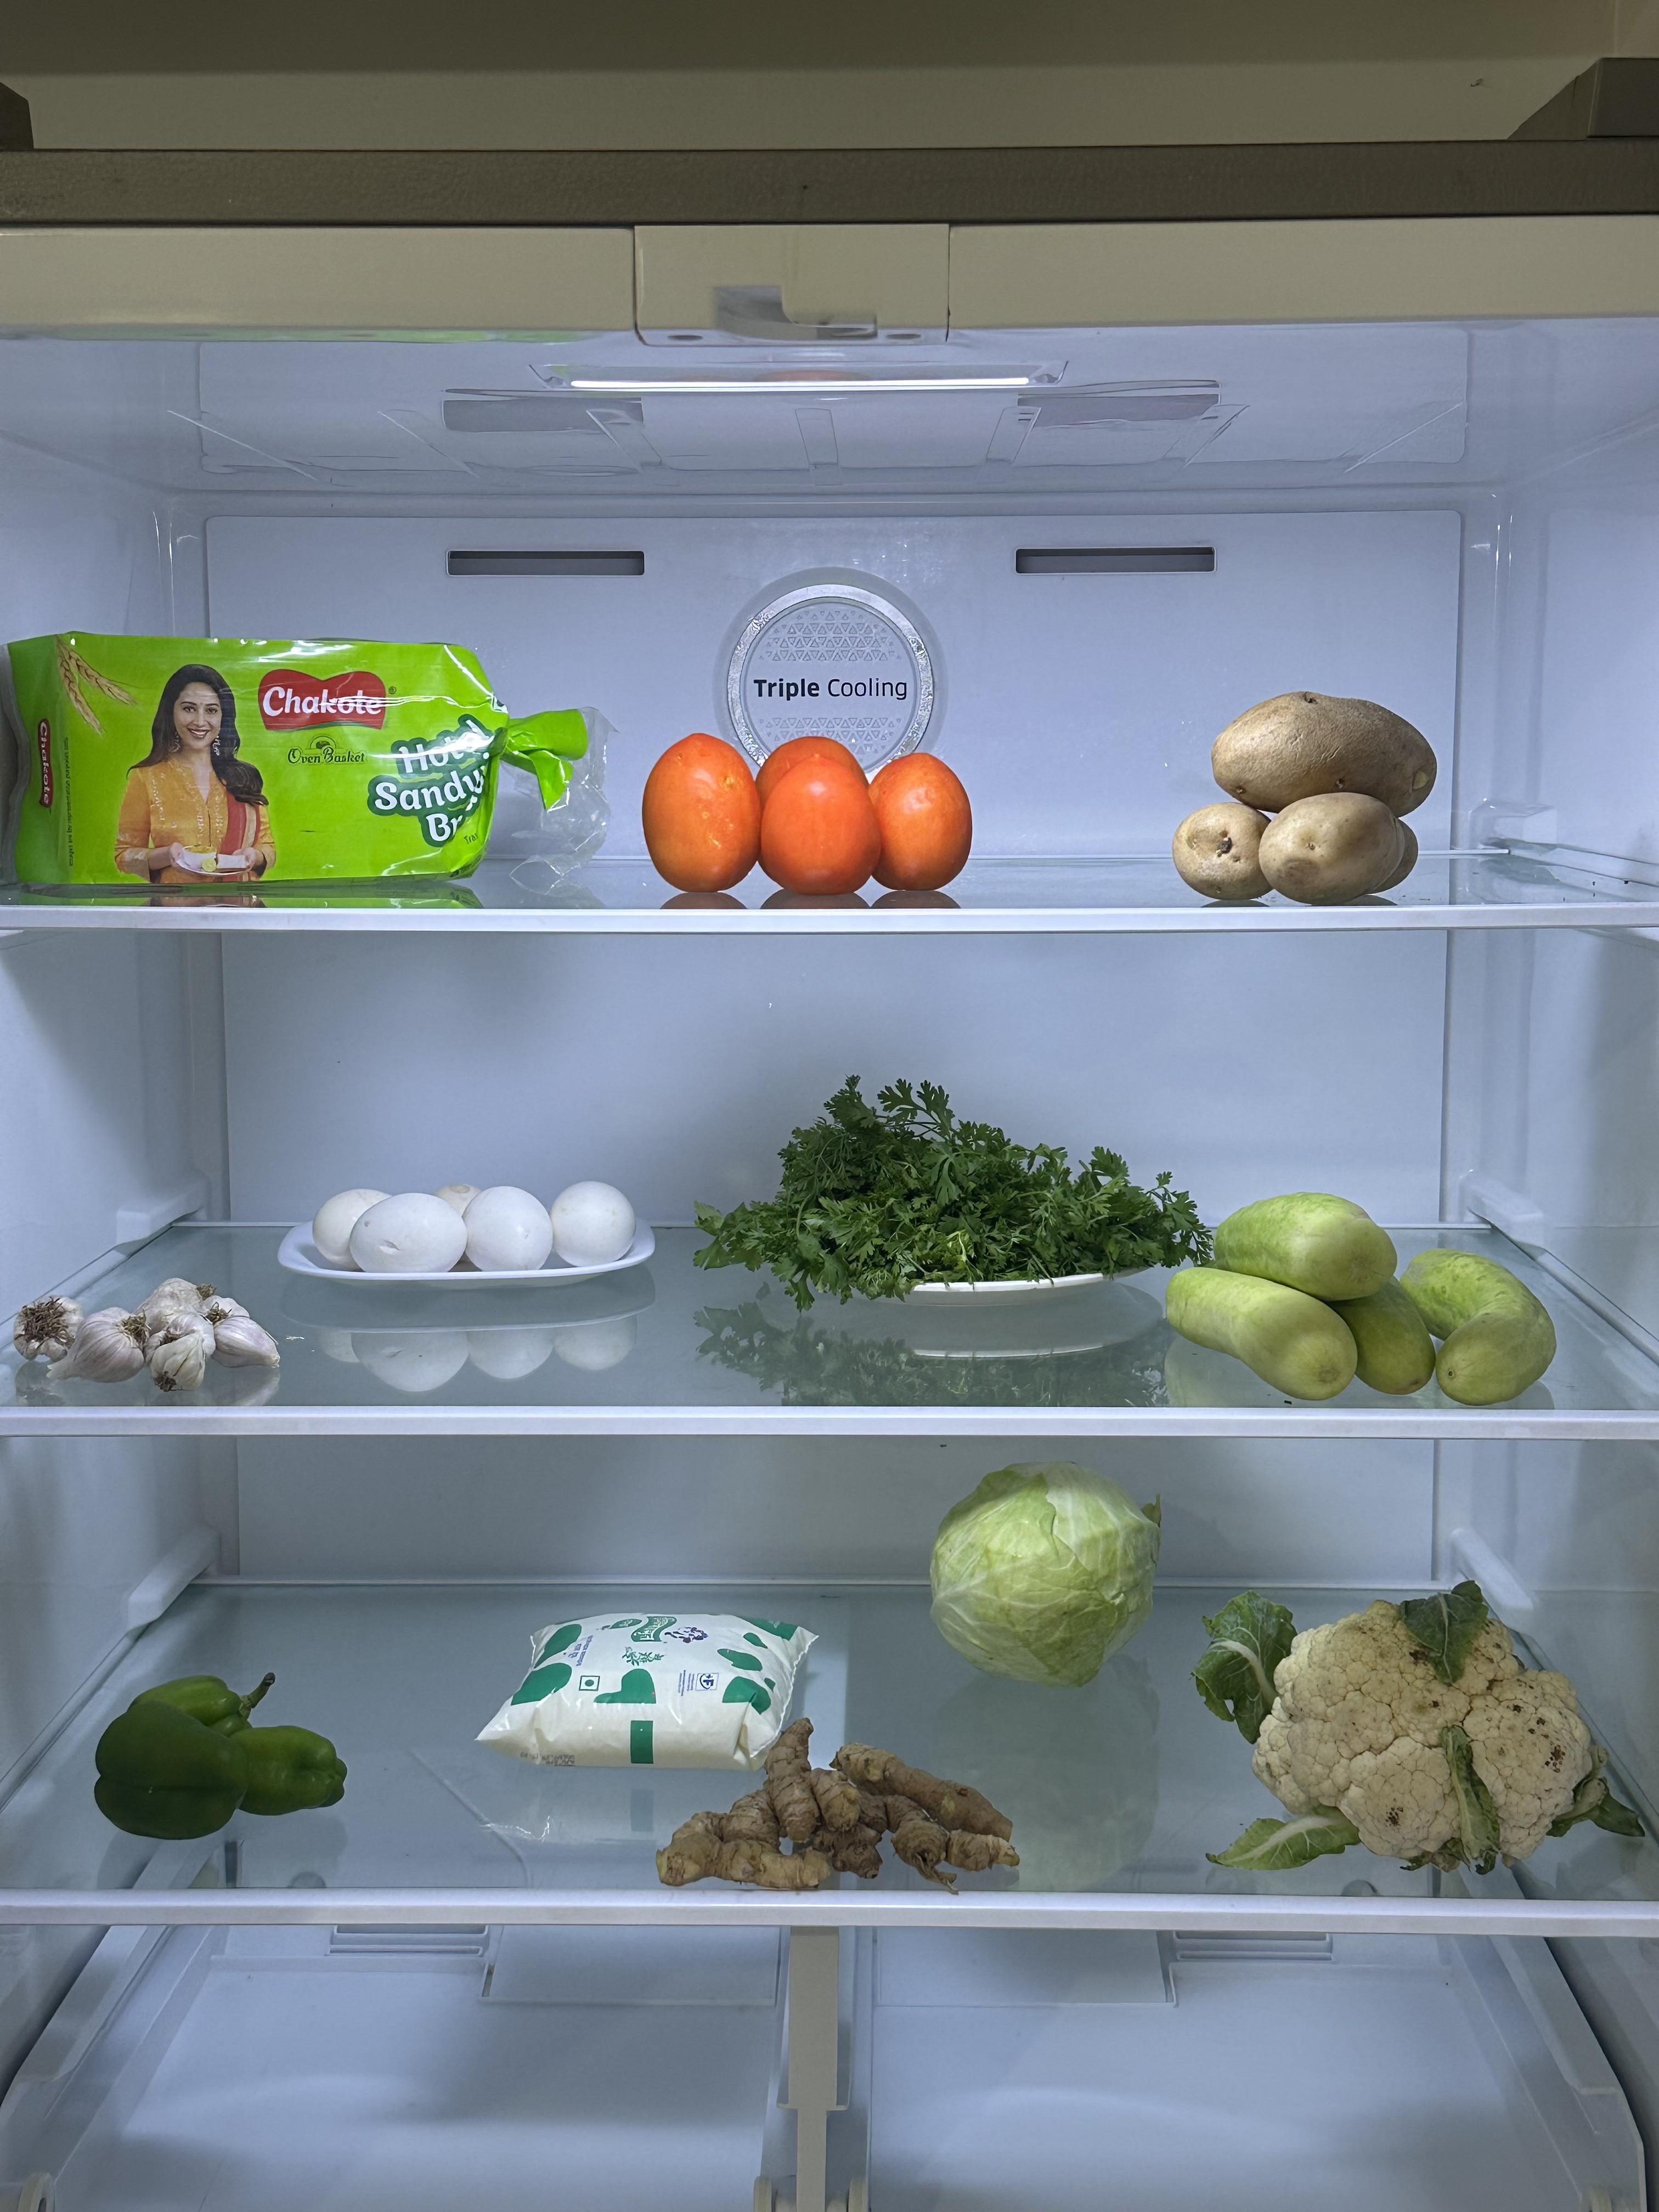bread: (12, 615, 530, 911)
cabbage: (917, 1472, 1175, 1679)
capsicum: (94, 1658, 350, 1851)
cauliflower: (1220, 1569, 1605, 1878)
coriander: (720, 1071, 1157, 1289)
cucumber: (1187, 1191, 1570, 1407)
egg: (303, 1170, 643, 1289)
garlic: (28, 1240, 279, 1407)
ginger: (666, 1757, 1061, 1907)
milk: (505, 1592, 828, 1750)
potato: (1169, 686, 1446, 902)
tomato: (638, 732, 986, 907)
